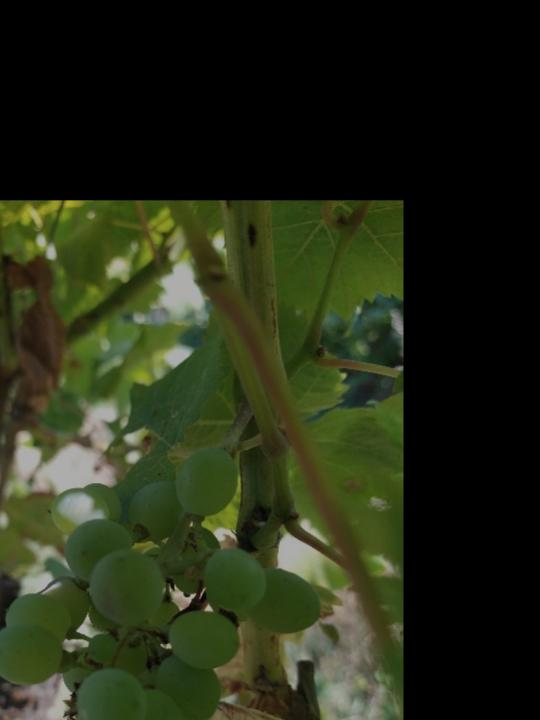grape: (0, 445, 321, 720)
